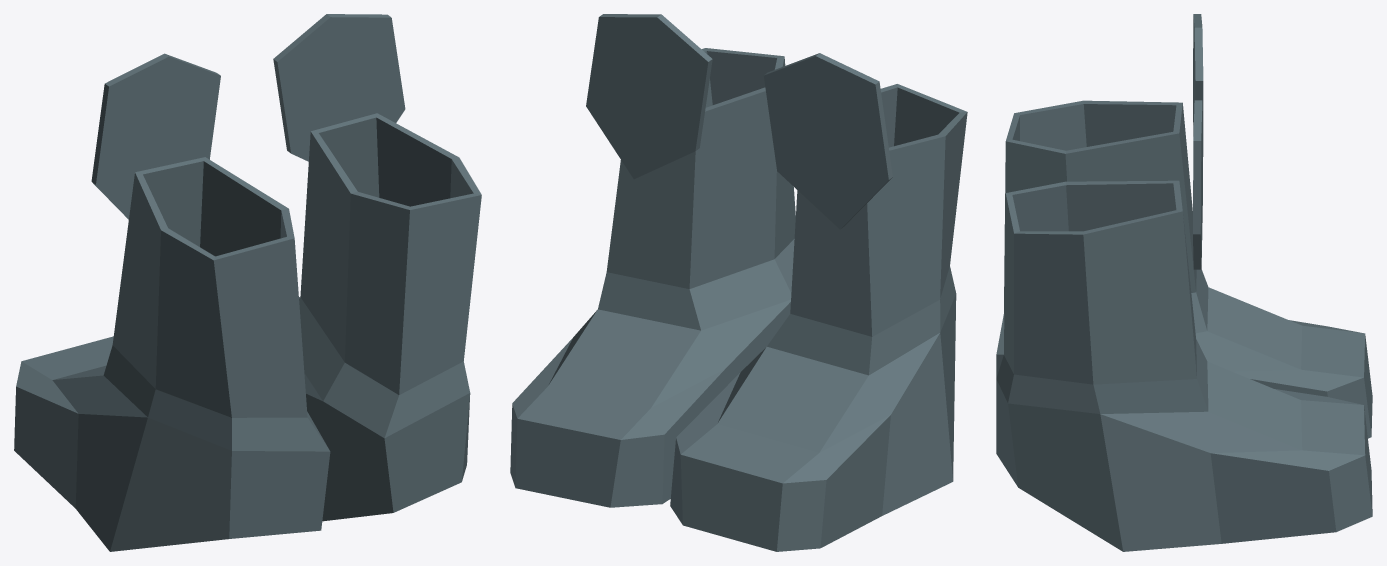
The model's file is Iron_Boots.fbx.
The picture shows the model from 3 angles, left to right: view 1: azimuth 30°, elevation 25°; view 2: azimuth 150°, elevation 25°; view 3: azimuth 270°, elevation 25°; orthographic projection. The views are drawn at different scales.
Visible parts, largest first — view 1: Boots.001; view 2: Boots.001; view 3: Boots.001.
Boxes of the visible parts, <box> form: Boots.001: <box>14,14,481,551</box>; Boots.001: <box>510,14,967,551</box>; Boots.001: <box>996,14,1372,551</box>.
Size of the model in its own units: 0.3658 by 0.3628 by 0.4365.
Materials: 1 (1 with a texture image).
